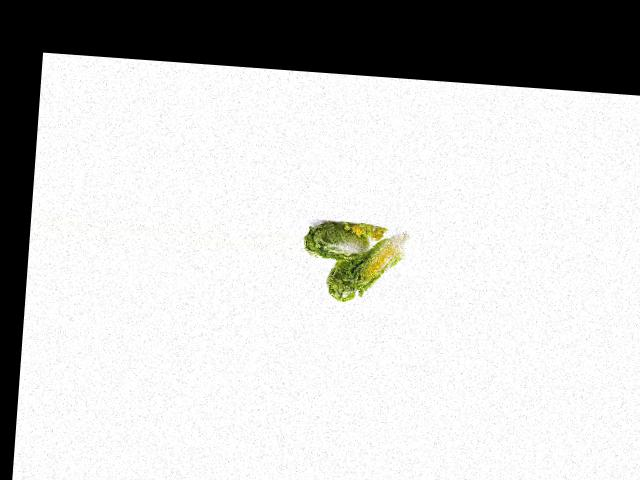lettuce: (304, 216, 379, 265)
